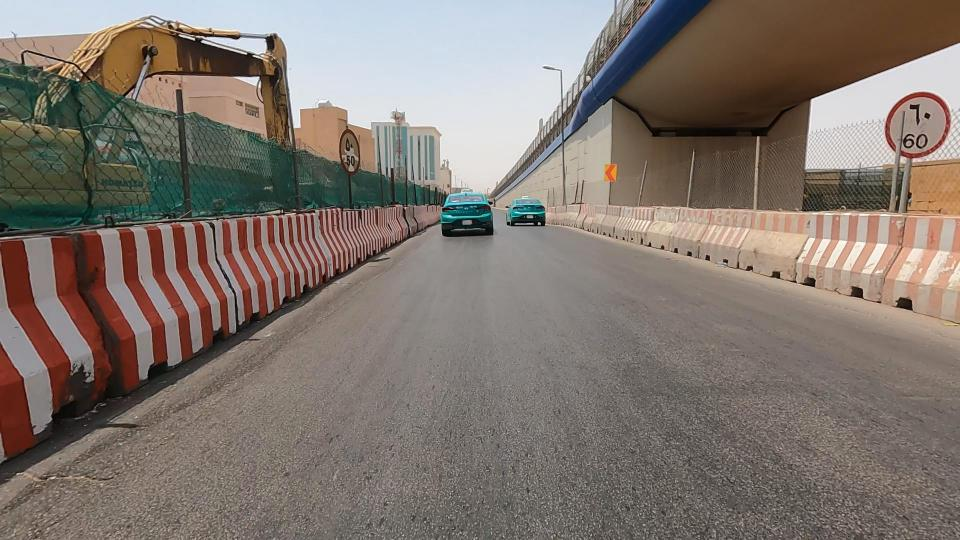CONSTRUCTION_ROAD: (0, 61, 384, 349), (663, 84, 960, 409), (567, 133, 797, 307), (237, 125, 454, 296)
FADED_SIGNAGE: (283, 80, 413, 216)
